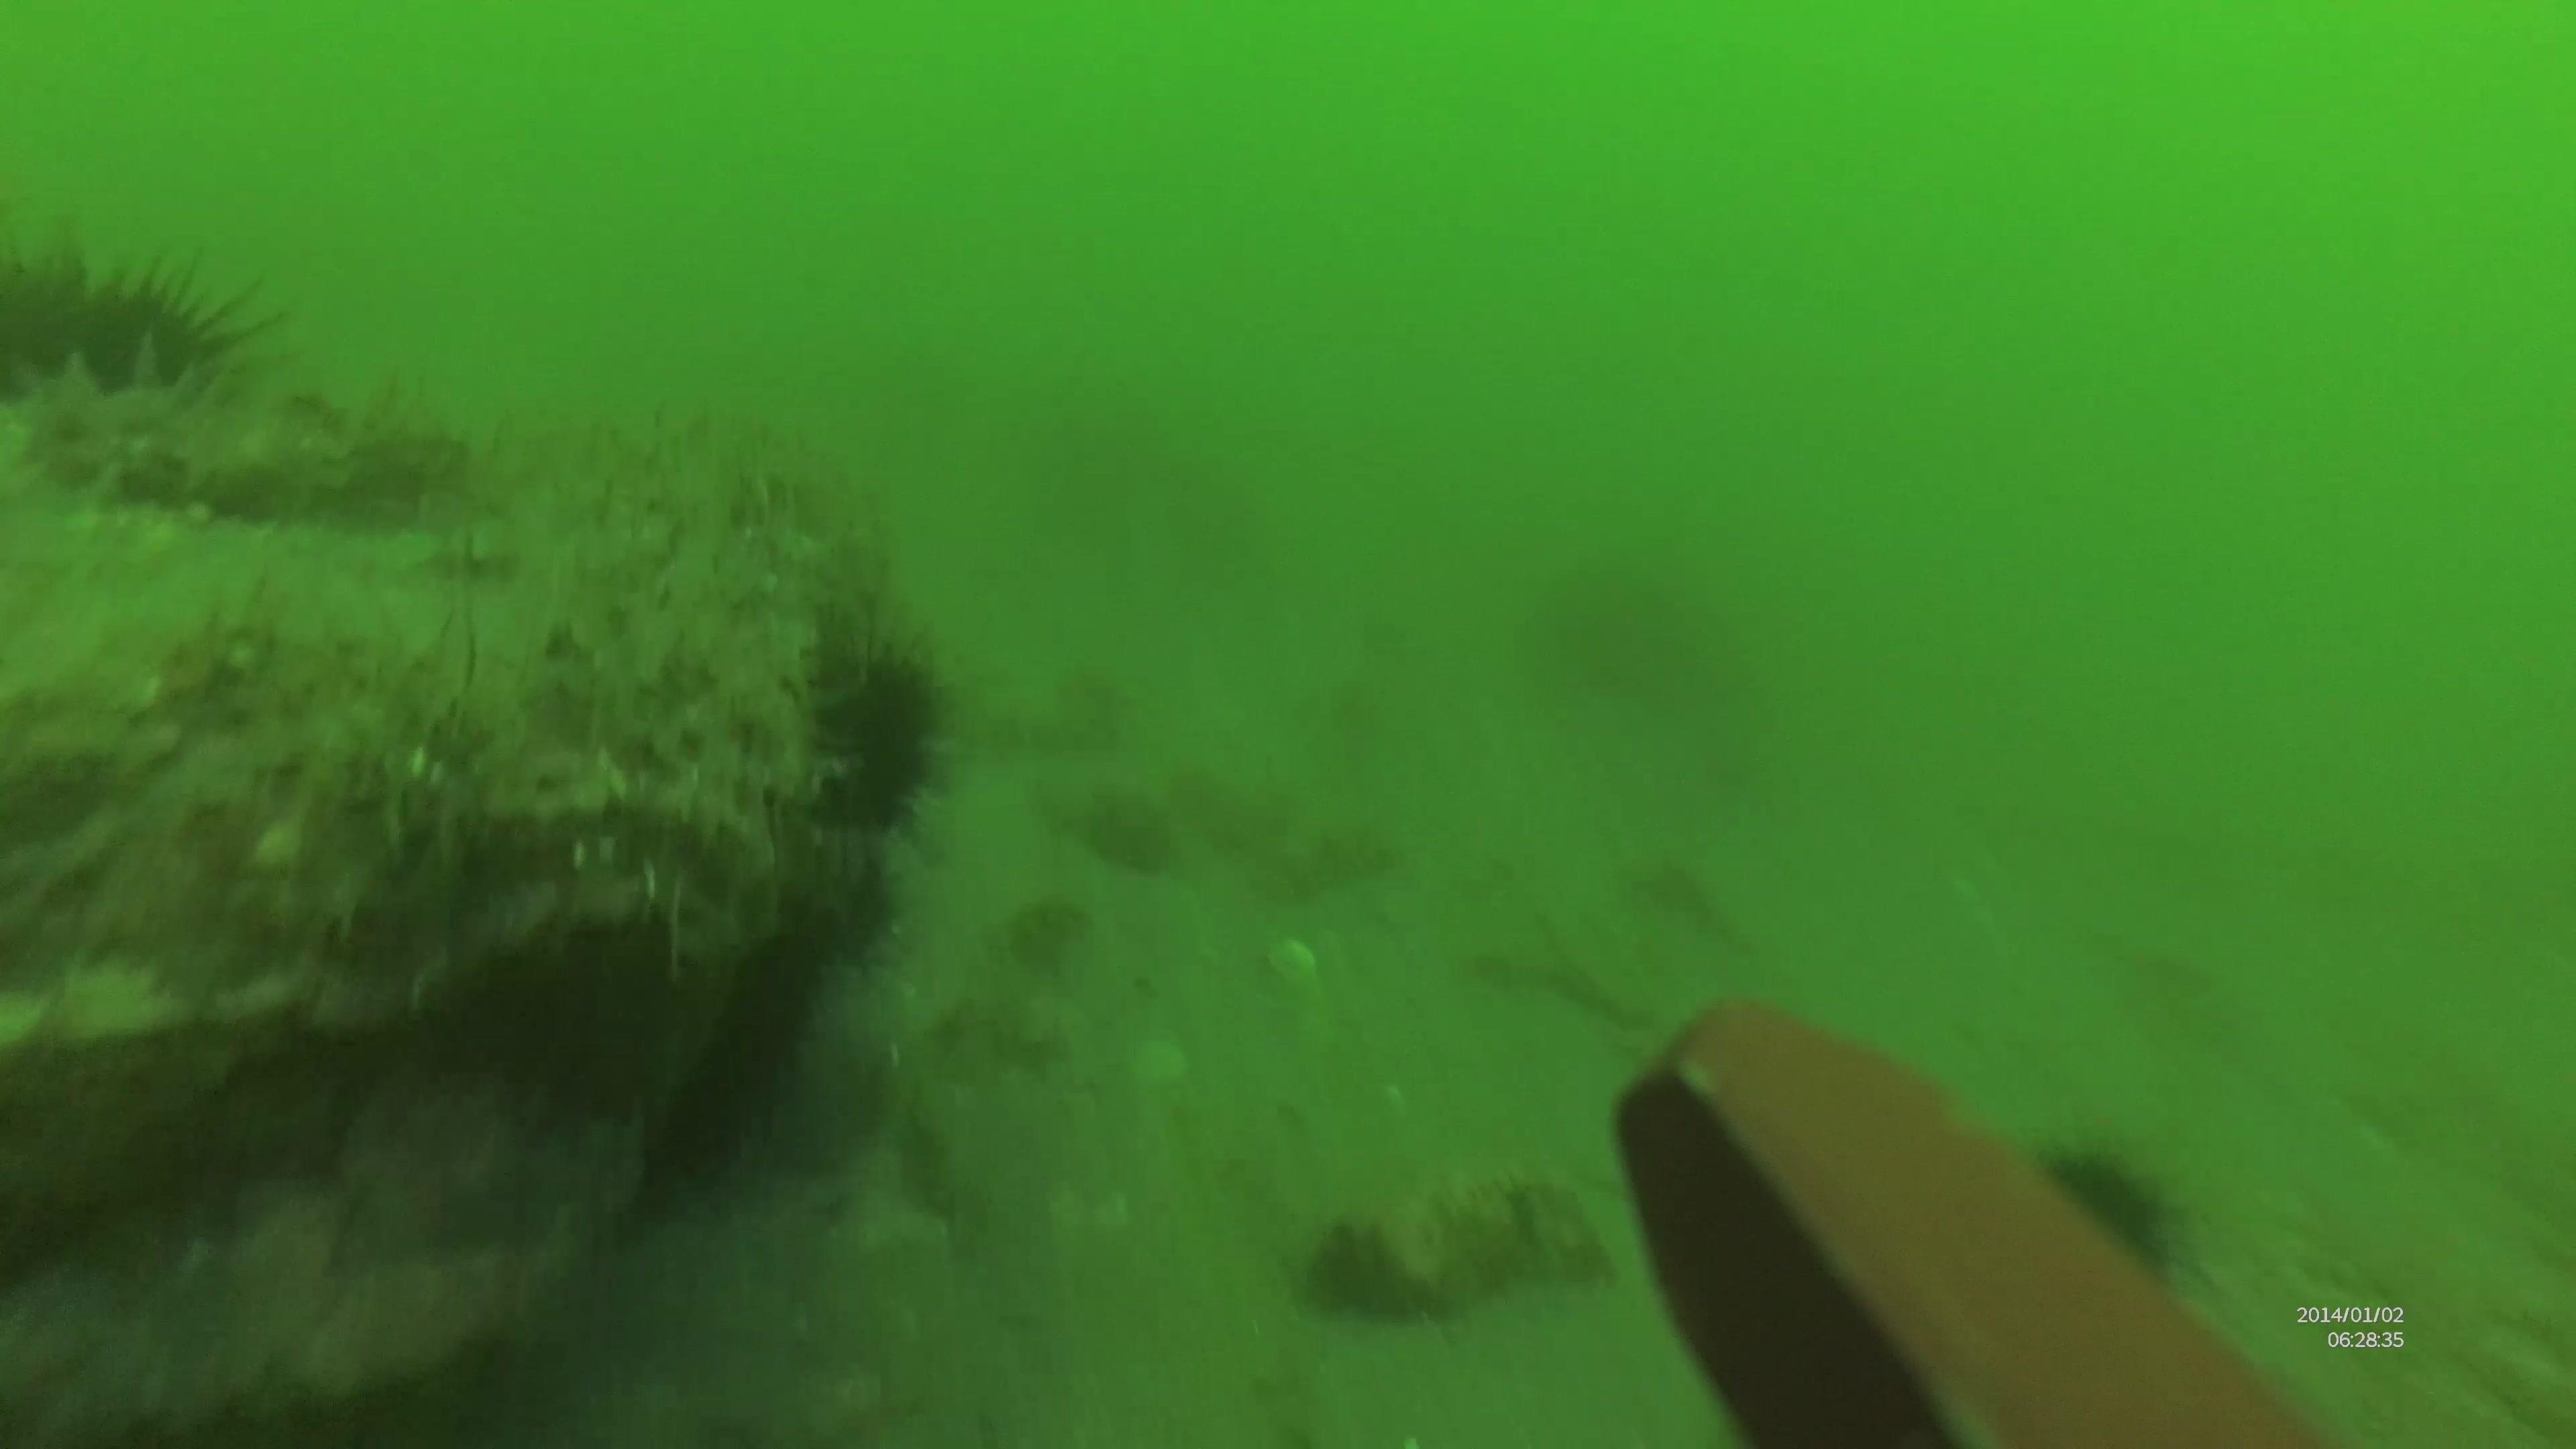echinus: (0, 216, 294, 497), (766, 614, 961, 849), (2015, 1136, 2204, 1339)
holothurian: (9, 361, 481, 531)
